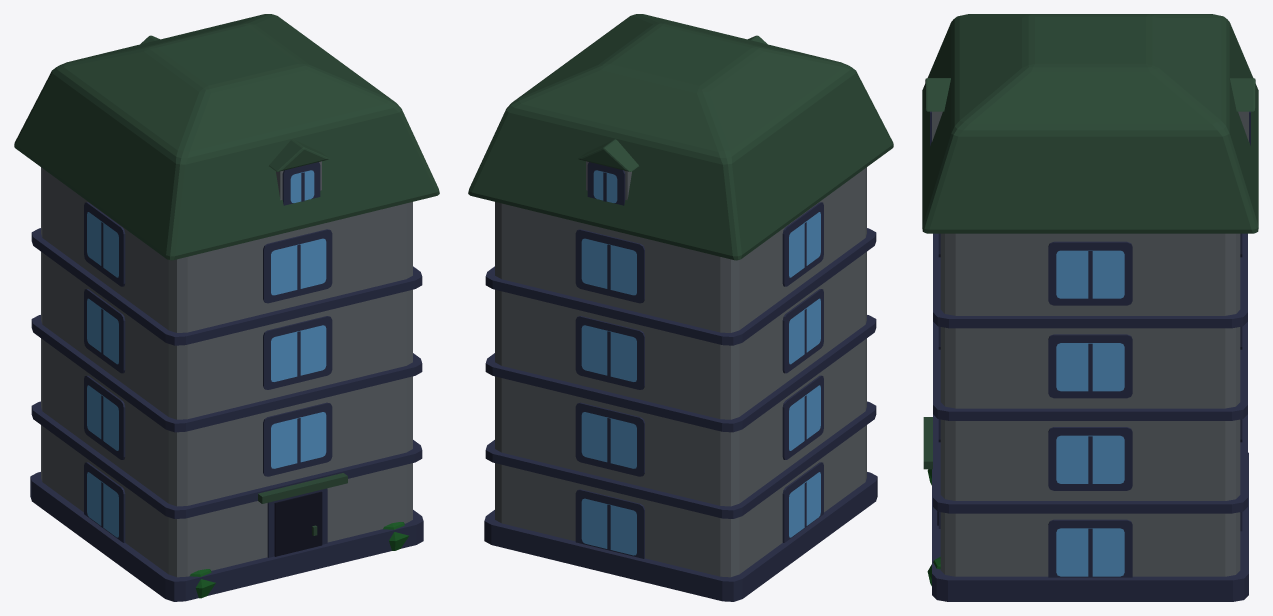
File: house-1x1-4f-mansard-d.glb
The picture shows the model from 3 angles, left to right: view 1: azimuth 30°, elevation 25°; view 2: azimuth 150°, elevation 25°; view 3: azimuth 270°, elevation 25°; orthographic projection. The views are drawn at different scales.
Visible parts, largest first — view 1: house-1x1-4f-mansard-d; view 2: house-1x1-4f-mansard-d; view 3: house-1x1-4f-mansard-d.
Boxes of the visible parts, x1,y1,x2,y2 form: house-1x1-4f-mansard-d: (14, 14, 439, 601); house-1x1-4f-mansard-d: (468, 14, 893, 601); house-1x1-4f-mansard-d: (922, 14, 1258, 601).
Bounding box in the file's own units: 0.9876 × 1.6 × 0.9876.
Materials: 1 (1 with a texture image).
